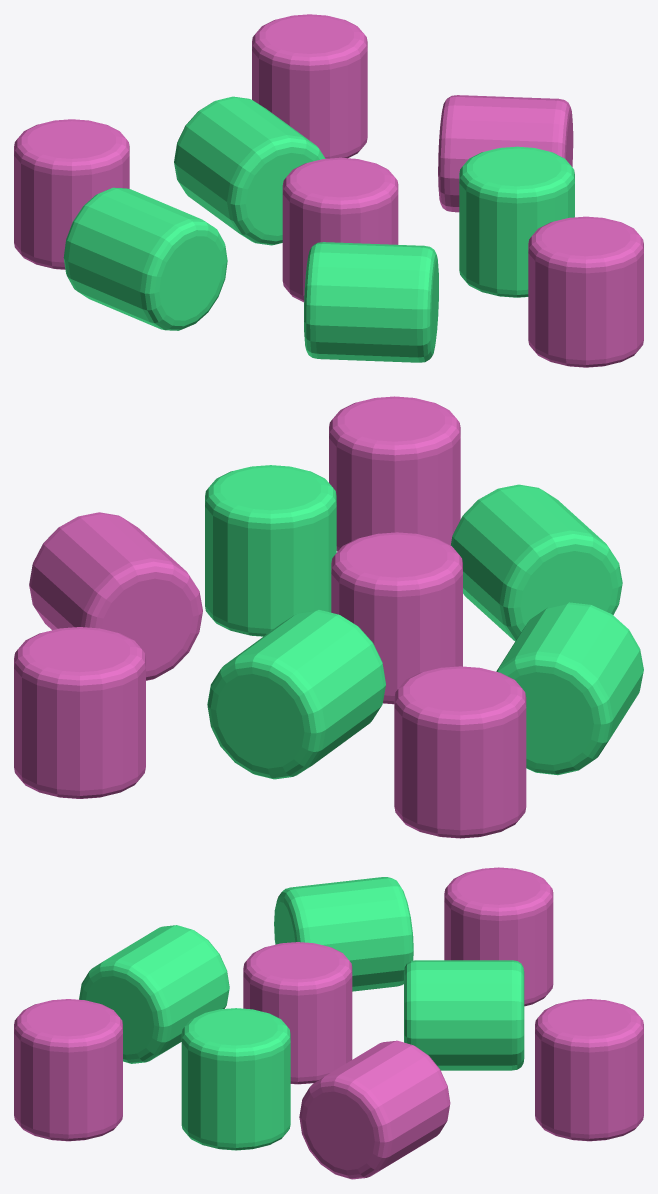
File: Marshmallow.obj
The picture shows the model from 3 angles, top to bottom: view 1: azimuth 30°, elevation 25°; view 2: azimuth 150°, elevation 25°; view 3: azimuth 270°, elevation 25°; orthographic projection. The views are drawn at different scales.
Parts seen in each view (by area): view 1: Cylinder004, Cylinder007, Cylinder003, Cylinder002, Cylinder008, Cylinder005, Cylinder006, Cylinder001, Cylinder009; view 2: Cylinder002, Cylinder006, Cylinder008, Cylinder005, Cylinder009, Cylinder007, Cylinder003, Cylinder004, Cylinder001; view 3: Cylinder009, Cylinder005, Cylinder007, Cylinder008, Cylinder002, Cylinder003, Cylinder001, Cylinder004, Cylinder006.
Part boxes in pixels (box(x1,y1,x2,y2)): Cylinder004: box(63, 187, 227, 330); Cylinder007: box(528, 216, 643, 367); Cylinder003: box(304, 242, 438, 362); Cylinder002: box(174, 96, 325, 245); Cylinder008: box(252, 14, 367, 158); Cylinder005: box(459, 146, 574, 297); Cylinder006: box(14, 119, 129, 269); Cylinder001: box(282, 157, 398, 302); Cylinder009: box(438, 95, 573, 212); Cylinder002: box(207, 609, 385, 779); Cylinder006: box(394, 666, 526, 838); Cylinder008: box(14, 627, 145, 798); Cylinder005: box(205, 465, 336, 636); Cylinder009: box(29, 512, 202, 680); Cylinder007: box(329, 396, 460, 551); Cylinder003: box(450, 484, 622, 641); Cylinder004: box(496, 602, 643, 775); Cylinder001: box(331, 532, 462, 704); Cylinder009: box(299, 1040, 450, 1179); Cylinder005: box(181, 1008, 290, 1150); Cylinder007: box(14, 999, 122, 1141); Cylinder008: box(535, 999, 643, 1141); Cylinder002: box(404, 960, 524, 1070); Cylinder003: box(79, 925, 229, 1063); Cylinder001: box(243, 942, 352, 1084); Cylinder004: box(274, 877, 413, 991); Cylinder006: box(444, 867, 553, 1006).
Bounding box in the file's own units: 479915 × 98847 × 546907.
